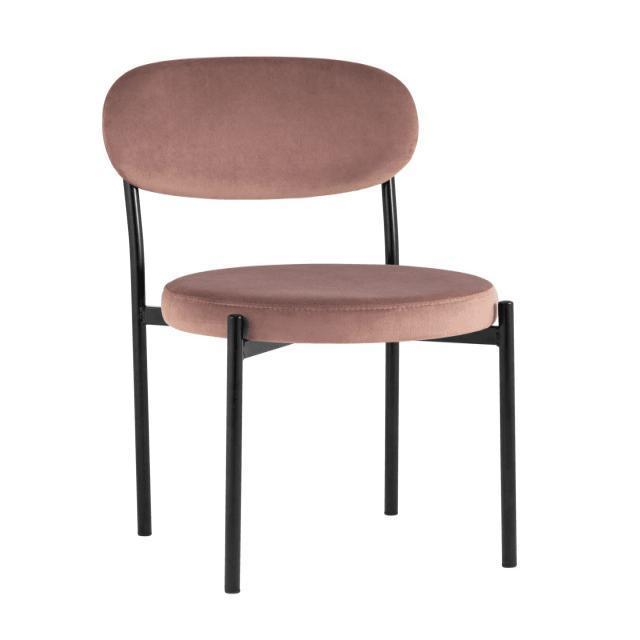chair: (91, 53, 537, 599), (108, 55, 535, 340)
